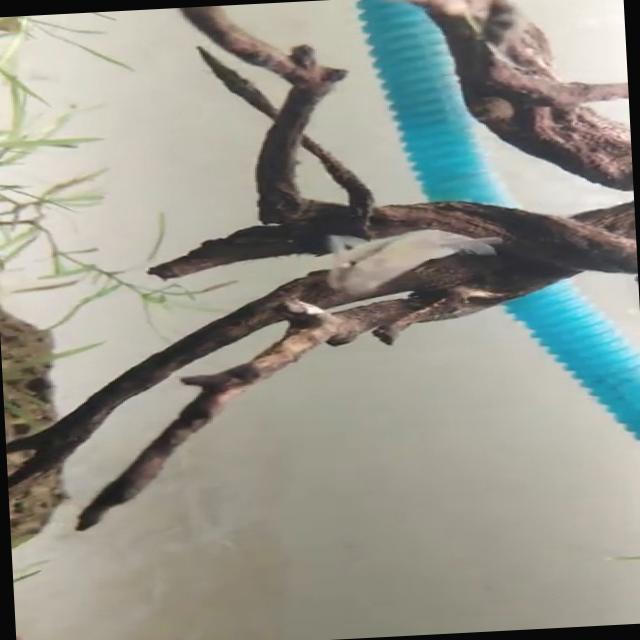Cakil Baligi: (313, 222, 510, 298)
